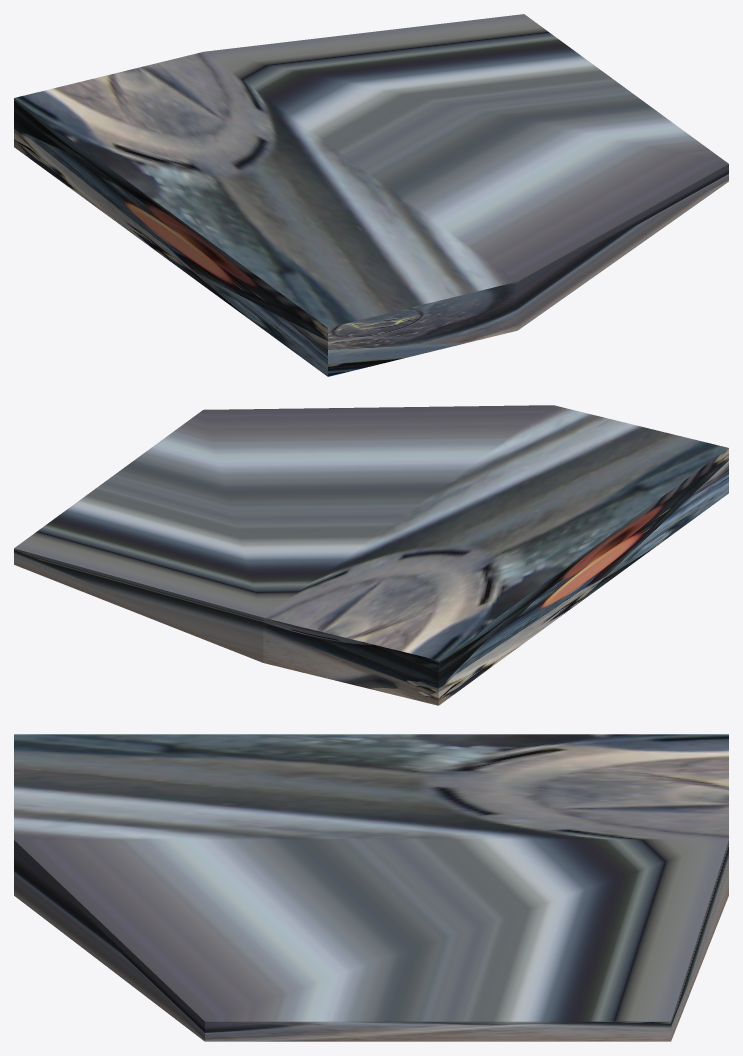
The picture shows the model from 3 angles, top to bottom: view 1: azimuth 30°, elevation 25°; view 2: azimuth 150°, elevation 25°; view 3: azimuth 270°, elevation 25°; orthographic projection. The views are drawn at different scales.
Parts seen in each view (by area): view 1: Wing-1.001_Cube.018; view 2: Wing-1.001_Cube.018; view 3: Wing-1.001_Cube.018.
Boxes of the visible parts, <box> form: Wing-1.001_Cube.018: <box>14,14,728,376</box>; Wing-1.001_Cube.018: <box>14,405,728,705</box>; Wing-1.001_Cube.018: <box>14,734,728,1041</box>.
Size of the model in its own units: 5.71 by 0.5514 by 6.4.
